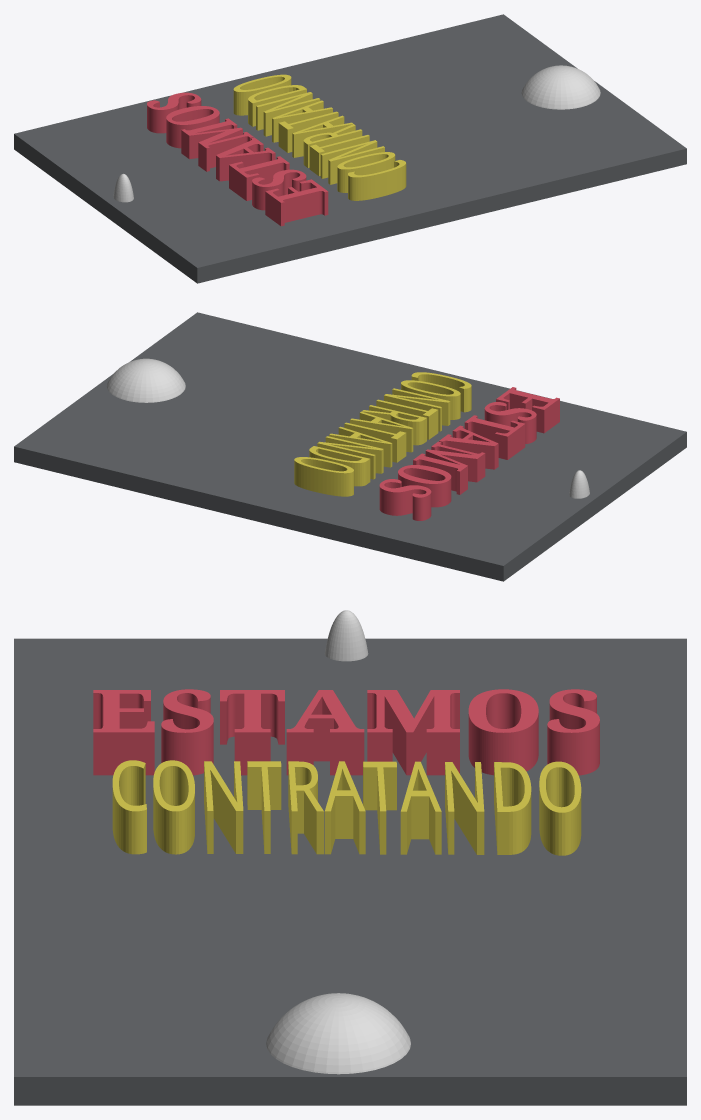
The model's file is asset.glb.
The picture shows the model from 3 angles, top to bottom: view 1: azimuth 30°, elevation 25°; view 2: azimuth 150°, elevation 25°; view 3: azimuth 270°, elevation 25°; orthographic projection. The views are drawn at different scales.
Parts seen in each view (by area): view 1: Mesh_Mesh_head_geo.001_lambert2SG.001; view 2: Mesh_Mesh_head_geo.001_lambert2SG.001; view 3: Mesh_Mesh_head_geo.001_lambert2SG.001.
Boxes of the visible parts, left/top/right/bottom form: Mesh_Mesh_head_geo.001_lambert2SG.001: left=14, top=14, right=686, bottom=283; Mesh_Mesh_head_geo.001_lambert2SG.001: left=14, top=312, right=686, bottom=581; Mesh_Mesh_head_geo.001_lambert2SG.001: left=14, top=610, right=686, bottom=1105.
Size of the model in its own units: 131 by 10 by 85.
